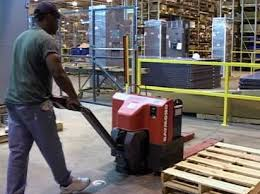Pallet Jack: (51, 91, 223, 174)
